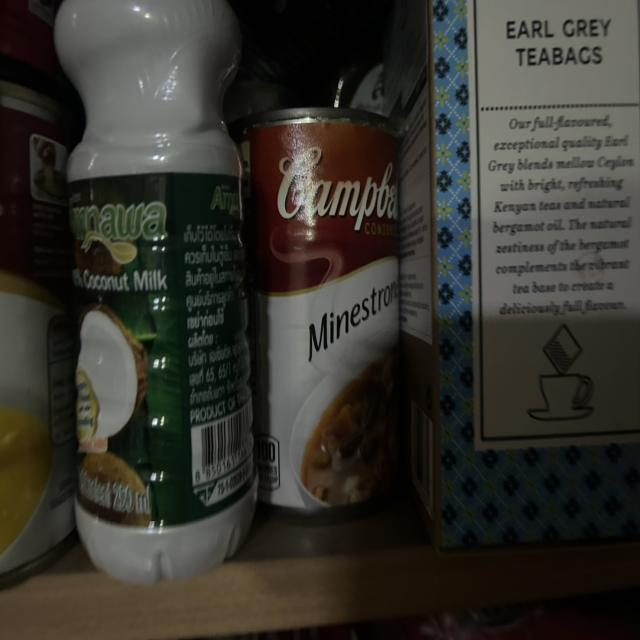can: (232, 74, 411, 517)
